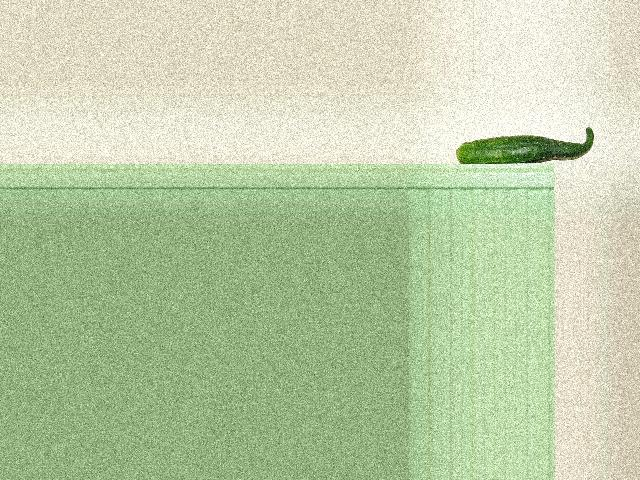cucumber: (456, 127, 594, 164)
